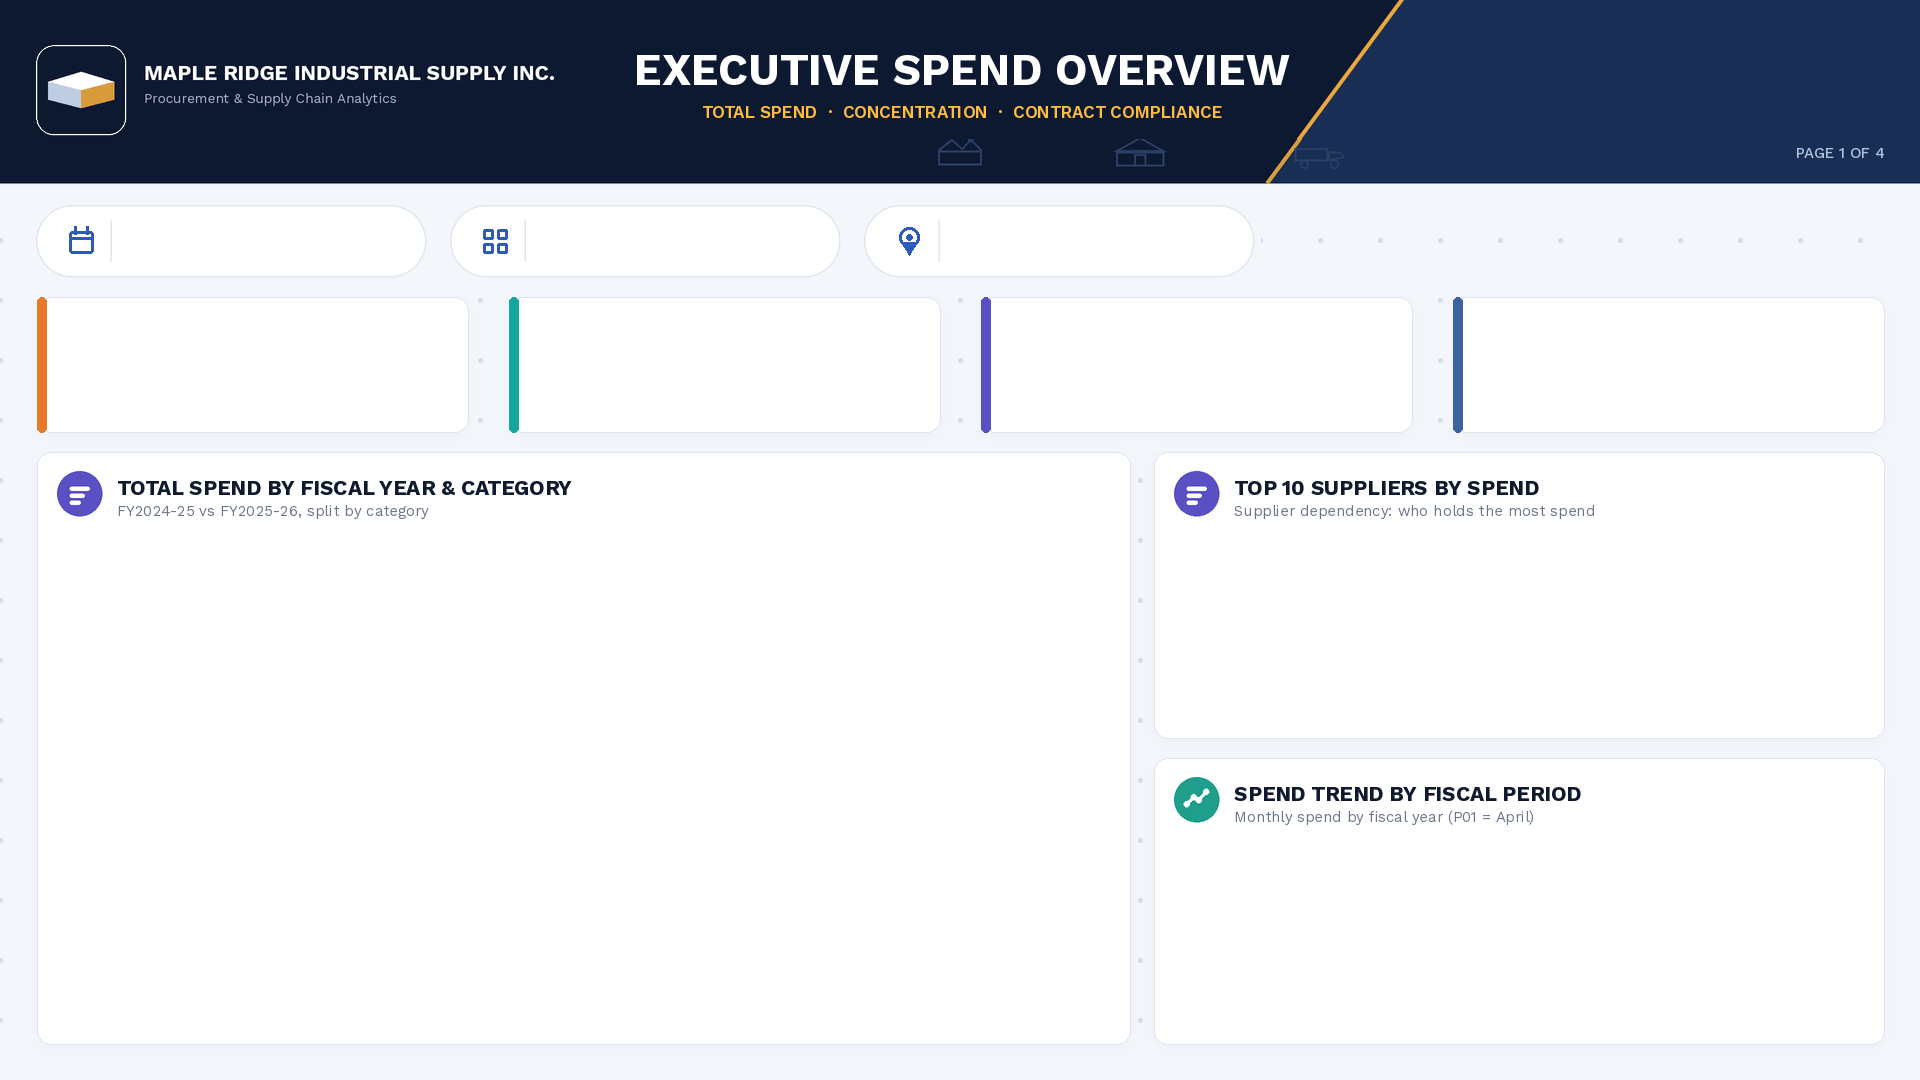

What the dashboard file says about the page in this screenshot:
{"tool":"powerbi","page":{"name":"Executive Overview","canvas":[1920,1080],"ordinal":0},"visuals":[{"type":"cardVisual","fields":{"Data":["Measure_Table.Total Spend"]},"box":[59,305,400,120],"z":0},{"type":"cardVisual","fields":{"Data":["Measure_Table.YoY Spend Growth % (Simple)"]},"box":[1003,305,400,120],"z":1000},{"type":"cardVisual","fields":{"Data":["Measure_Table.Maverick Spend %"]},"box":[1475,305,400,120],"z":2000},{"type":"cardVisual","fields":{"Data":["Measure_Table.Top 5 Supplier Spend %"]},"box":[531,305,400,120],"z":3000},{"type":"clusteredColumnChart","fields":{"Category":["PO_Transactions.Fiscal_Year"],"Series":["Dim_Category.Category"],"Y":["Measure_Table.Total Spend"]},"box":[55,530,1058,496],"z":4000},{"type":"clusteredBarChart","fields":{"Category":["Dim_Supplier.Supplier_Name"],"Y":["Measure_Table.Total Spend"]},"box":[1172,530,694,190],"z":5000},{"type":"slicer","fields":{"Values":["Dim_Date.Fiscal_Year"]},"box":[111,211,300,60],"z":6000},{"type":"slicer","fields":{"Values":["Dim_Category.Category"]},"box":[525,211,300,60],"z":7000},{"type":"slicer","fields":{"Values":["PO_Transactions.Plant_Location"]},"box":[939,211,300,60],"z":8000},{"type":"lineChart","fields":{"Category":["Dim_Date.Fiscal_Period"],"Series":["Dim_Date.Fiscal_Year"],"Y":["Measure_Table.Total Spend"]},"box":[1172,836,694,190],"z":9000}]}

Visuals, with their boxes in screenshot pixels (x1, y1, x2, y2), scaled from the page's 1920x1080 canvas onto the 1920x1080 screenshot:
cardVisual - Measure_Table.Total Spend: crop(59, 305, 459, 425)
cardVisual - Measure_Table.YoY Spend Growth % (Simple): crop(1003, 305, 1403, 425)
cardVisual - Measure_Table.Maverick Spend %: crop(1475, 305, 1875, 425)
cardVisual - Measure_Table.Top 5 Supplier Spend %: crop(531, 305, 931, 425)
clusteredColumnChart - PO_Transactions.Fiscal_Year x Dim_Category.Category: crop(55, 530, 1113, 1026)
clusteredBarChart - Dim_Supplier.Supplier_Name x Measure_Table.Total Spend: crop(1172, 530, 1866, 720)
slicer - Dim_Date.Fiscal_Year: crop(111, 211, 411, 271)
slicer - Dim_Category.Category: crop(525, 211, 825, 271)
slicer - PO_Transactions.Plant_Location: crop(939, 211, 1239, 271)
lineChart - Dim_Date.Fiscal_Period x Dim_Date.Fiscal_Year: crop(1172, 836, 1866, 1026)
